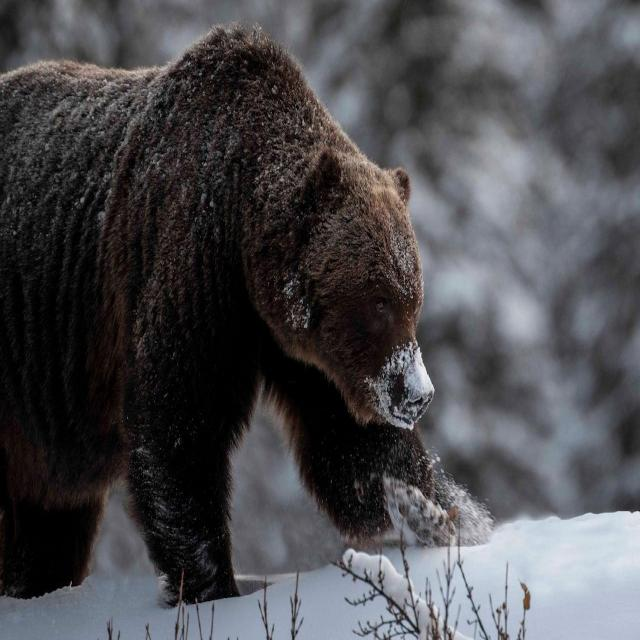Bear: (0, 23, 495, 607)
